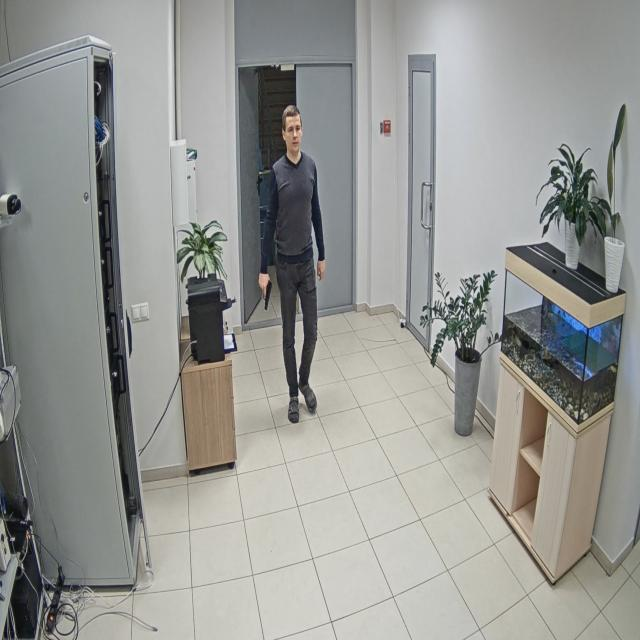-Gun: (264, 282, 271, 311)
